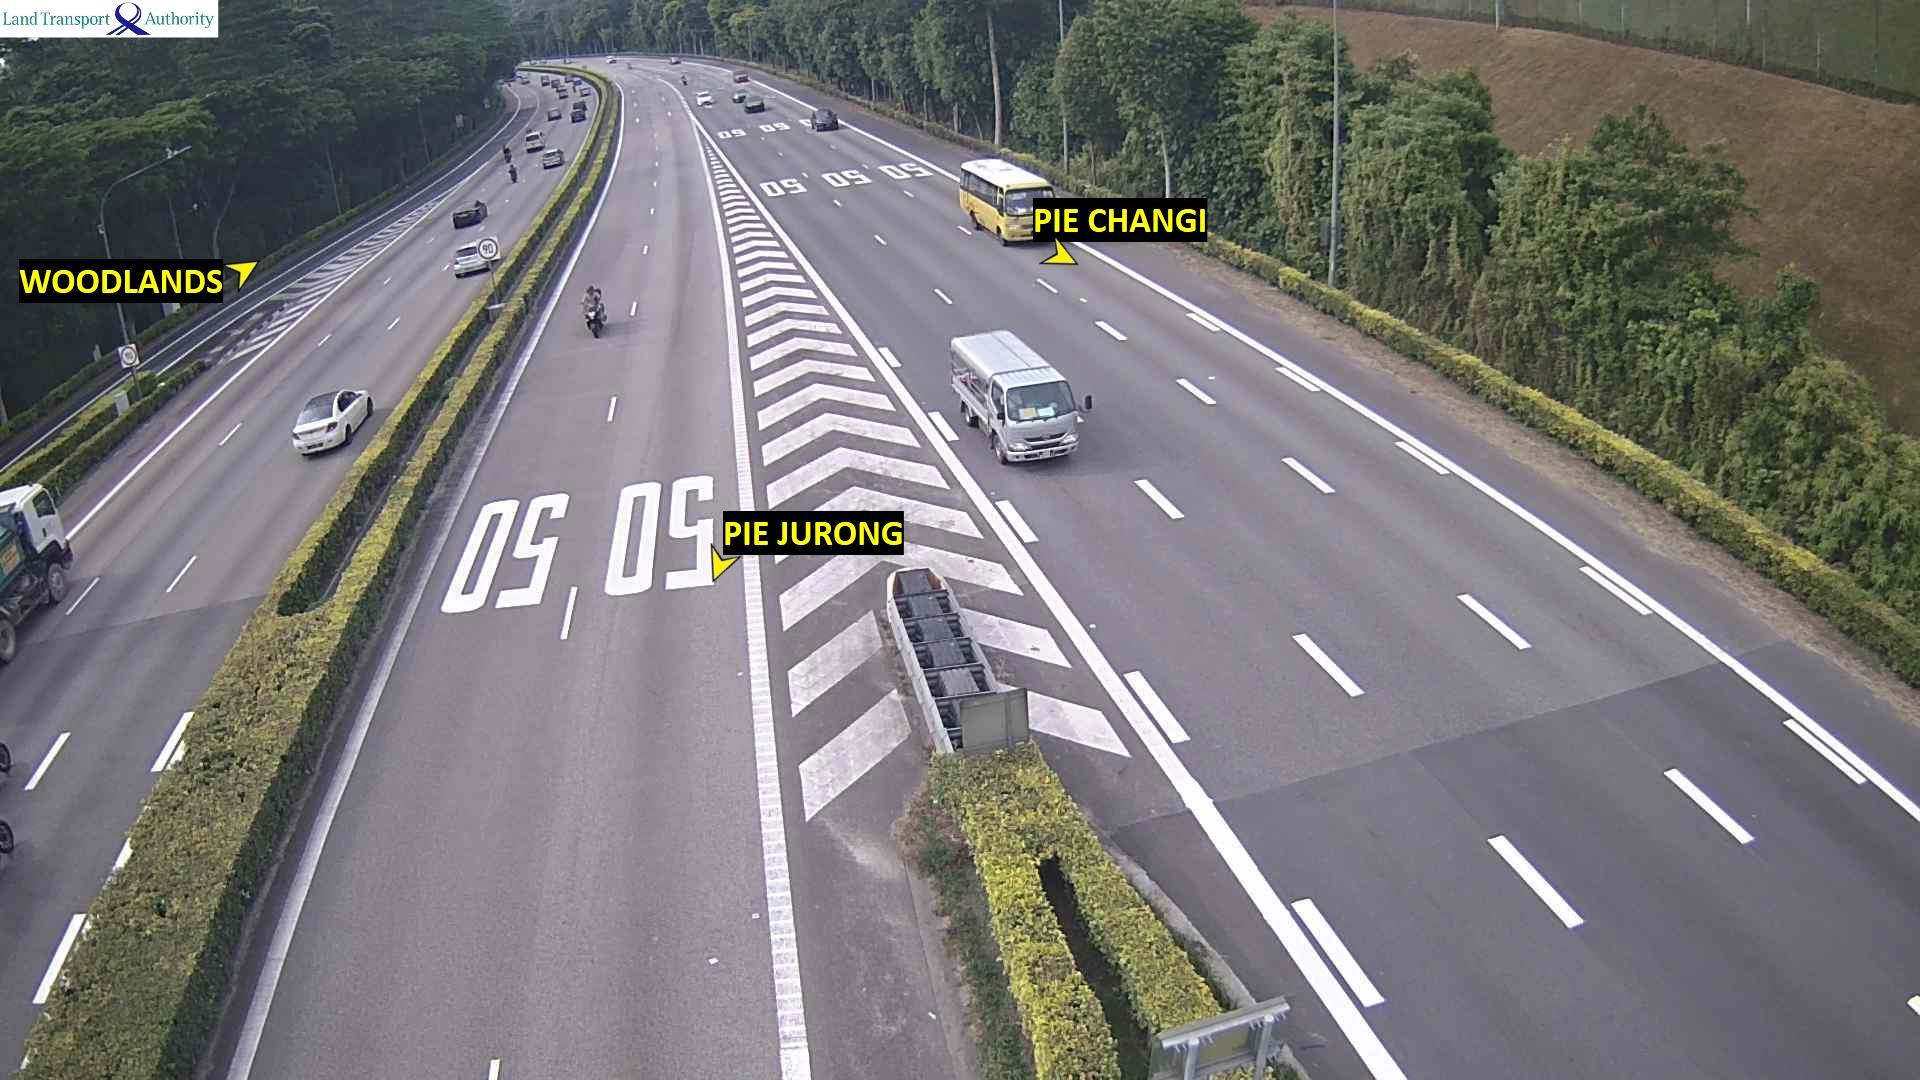bus: (957, 156, 1055, 245)
cars: (290, 386, 373, 456), (452, 241, 488, 277), (451, 199, 487, 228), (810, 107, 837, 131), (524, 127, 543, 152), (541, 146, 563, 167), (695, 88, 713, 107), (568, 103, 585, 123), (742, 96, 764, 112), (574, 80, 589, 96), (732, 70, 750, 83), (731, 88, 746, 103), (546, 105, 560, 120), (555, 82, 568, 98), (513, 73, 527, 83), (538, 75, 553, 86), (669, 54, 680, 65), (562, 73, 575, 82), (605, 54, 617, 63), (551, 78, 562, 87)
motorcycle: (582, 298, 607, 338), (501, 162, 525, 189), (498, 144, 514, 166), (680, 73, 688, 84), (626, 61, 634, 73)
trucks: (947, 328, 1092, 465), (0, 481, 73, 663)
